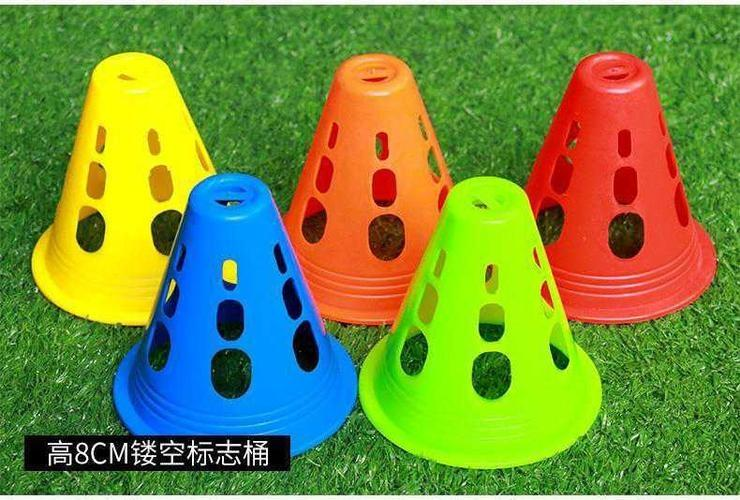cone_barrel: (360, 155, 610, 464), (111, 163, 357, 431), (519, 38, 723, 317), (20, 53, 227, 321), (278, 44, 462, 330)
